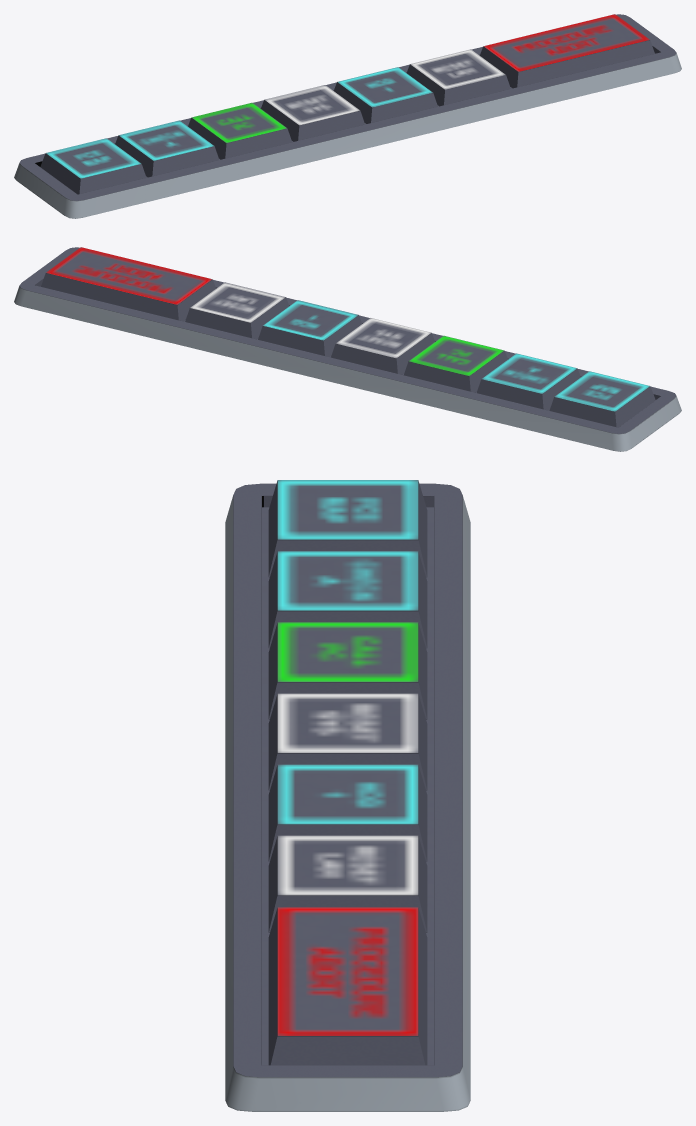
File: Panel_Button_Line_01.FBX
3 renders of one model, top to bottom at view 1: azimuth 30°, elevation 25°; view 2: azimuth 150°, elevation 25°; view 3: azimuth 270°, elevation 25°, orthographic. The views are drawn at different scales.
Visible parts, largest first — view 1: Panel_Button_Line_01, Button_07, Button_01, Button_02, Button_05, Button_03, Button_06, Button_04; view 2: Panel_Button_Line_01, Button_07, Button_01, Button_02, Button_05, Button_03, Button_06, Button_04; view 3: Panel_Button_Line_01, Button_07, Button_06, Button_03, Button_04, Button_01, Button_02, Button_05.
Boxes of the visible parts, x1=… form: Panel_Button_Line_01: x1=14, y1=14, x2=681, y2=218; Button_07: x1=480, y1=14, x2=654, y2=88; Button_01: x1=40, y1=138, x2=146, y2=194; Button_02: x1=115, y1=120, x2=219, y2=177; Button_05: x1=334, y1=67, x2=437, y2=123; Button_03: x1=188, y1=102, x2=291, y2=159; Button_06: x1=406, y1=49, x2=510, y2=106; Button_04: x1=261, y1=85, x2=364, y2=141; Panel_Button_Line_01: x1=14, y1=247, x2=681, y2=451; Button_07: x1=41, y1=247, x2=215, y2=321; Button_01: x1=549, y1=371, x2=655, y2=427; Button_02: x1=476, y1=353, x2=580, y2=410; Button_05: x1=258, y1=300, x2=361, y2=356; Button_03: x1=404, y1=335, x2=507, y2=392; Button_06: x1=185, y1=282, x2=289, y2=339; Button_04: x1=331, y1=318, x2=434, y2=374; Panel_Button_Line_01: x1=225, y1=483, x2=470, y2=1111; Button_07: x1=268, y1=907, x2=427, y2=1065; Button_06: x1=268, y1=835, x2=427, y2=932; Button_03: x1=268, y1=622, x2=427, y2=719; Button_04: x1=268, y1=693, x2=427, y2=790; Button_01: x1=268, y1=480, x2=427, y2=577; Button_02: x1=268, y1=551, x2=427, y2=648; Button_05: x1=268, y1=764, x2=427, y2=861.
Size of the model in its own units: 2.11 by 0.0877 by 0.3648.
